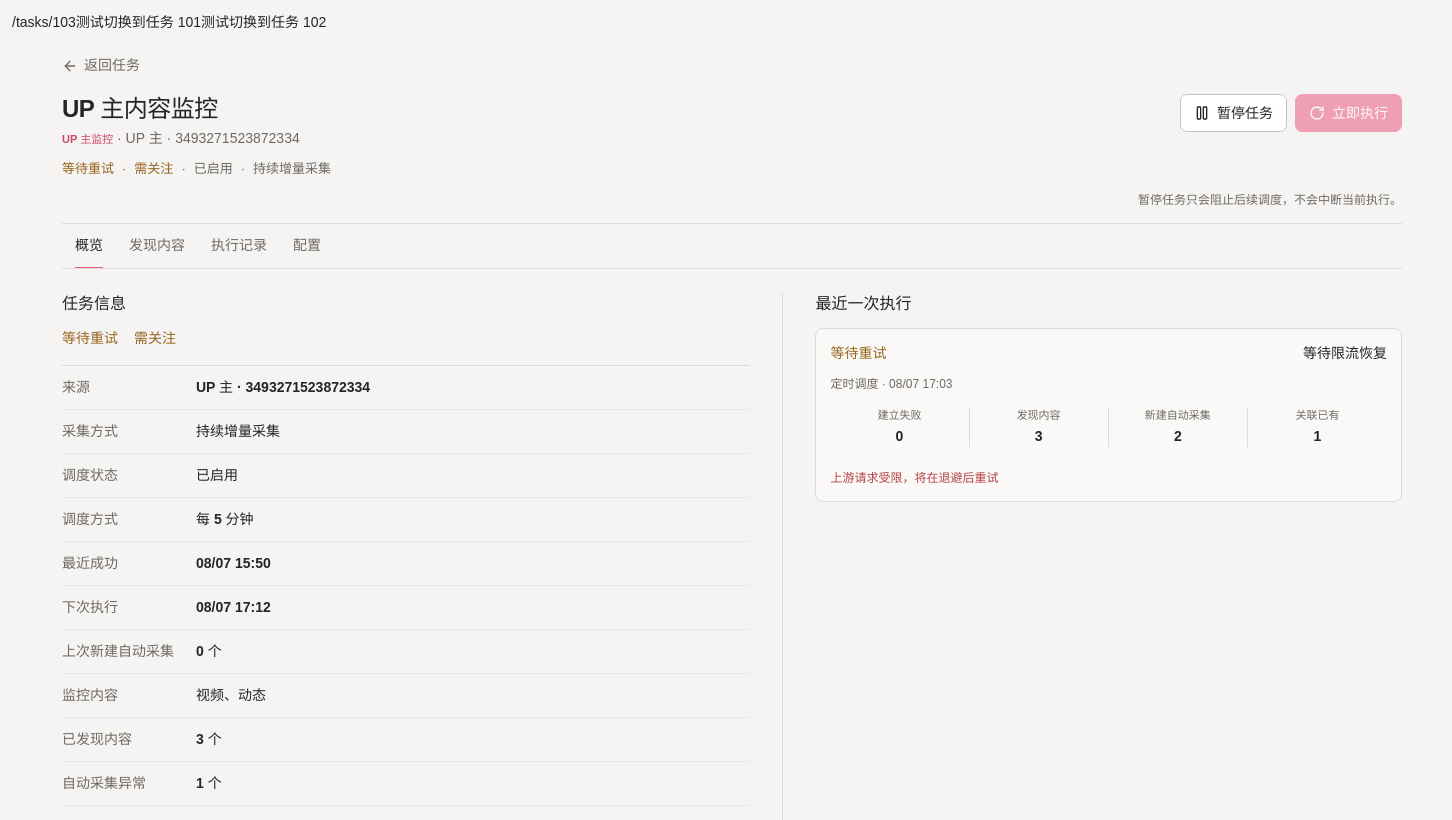
Test case: TaskDetailPage › UP 主监控使用发现指标，并可筛选发现内容后进入规范任务地址
The width and height of the screenshot is (1452, 820).
Expected: the heading "UP 主内容监控" is shown, [62,95,218,122]
Expected: the text "建立失败" is shown, [878,409,922,421]
Click the link "发现内容". click: (157, 245)
box: [129,237,185,253]
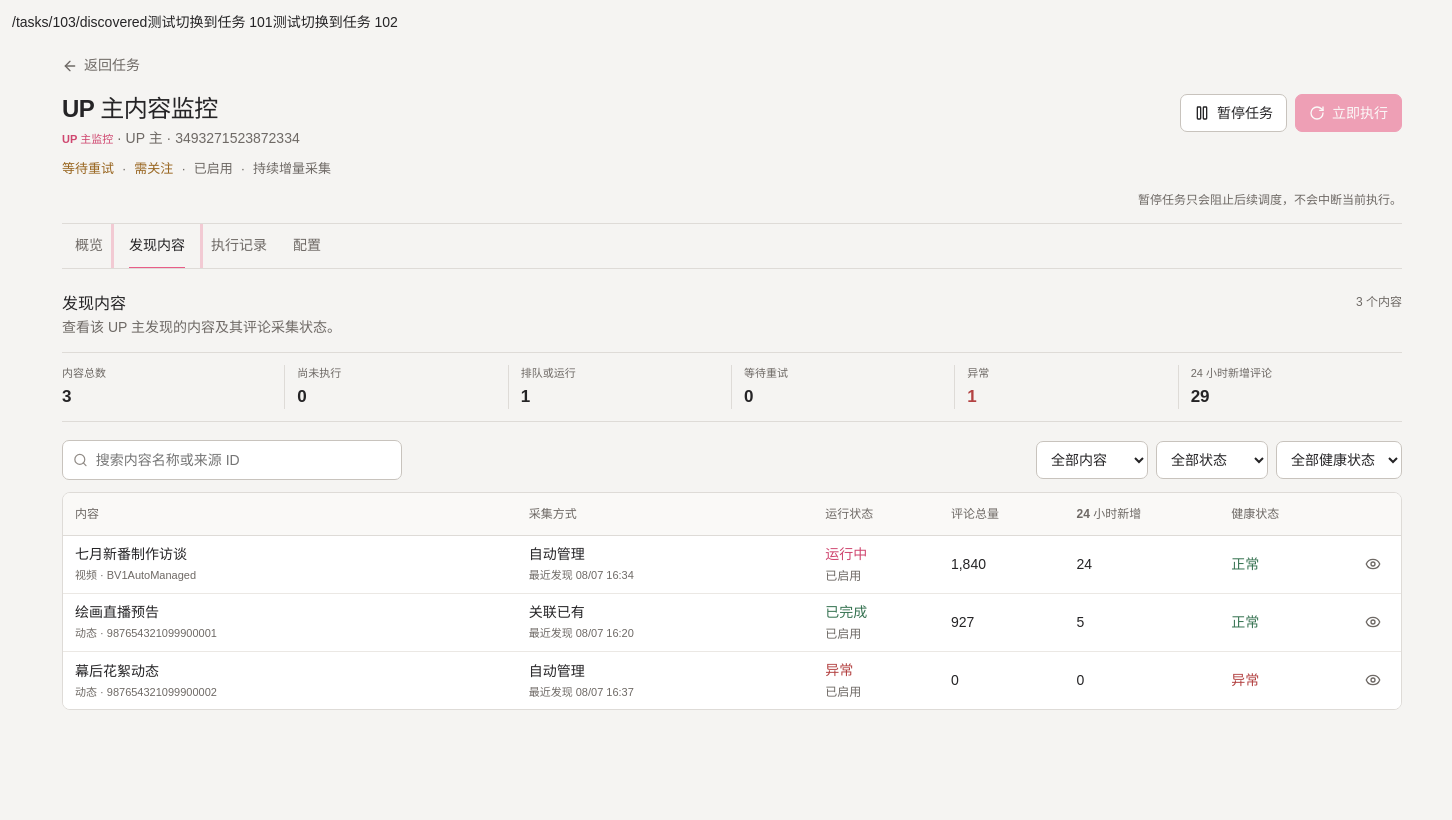
Expected: the text with test id "location" reads "/tasks/103/discovered", [12,14,147,30]
Expected: the text "查看该 UP 主发现的内容及其评论采集状态。" is shown, [62,317,341,338]
Expected: the button named "查看 七月新番制作访谈" is shown, [1357,548,1389,580]
Select "异常" in the 3rd dropdown named "健康状态". click: (1339, 460)
box: [1276,441,1402,479]
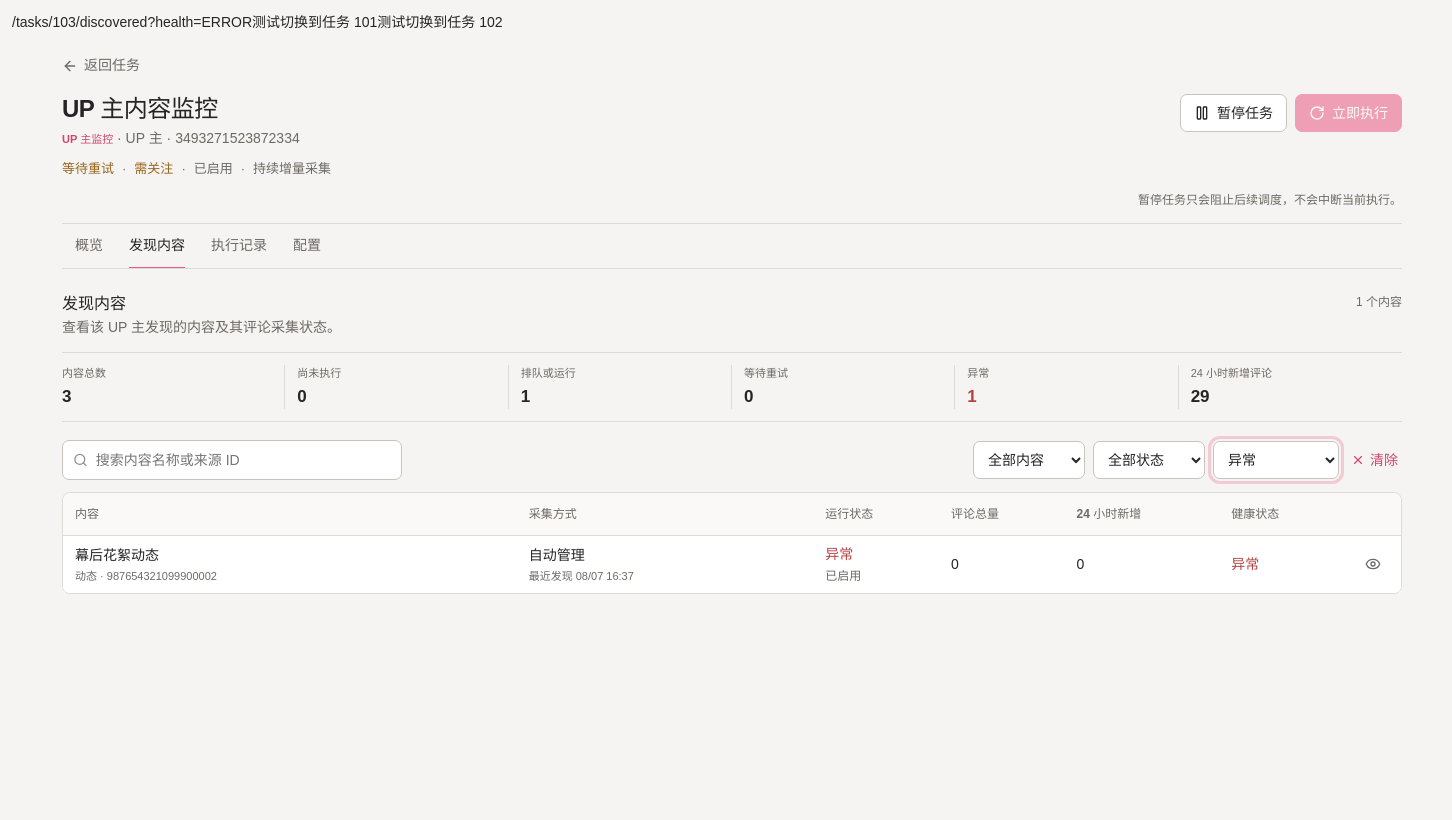
Expected: the text with test id "location" reads "/tasks/103/discovered?health=ERROR", [12,14,252,30]
Click the button named "查看 幕后花絮动态". click: (1373, 564)
box: [1357,548,1389,580]
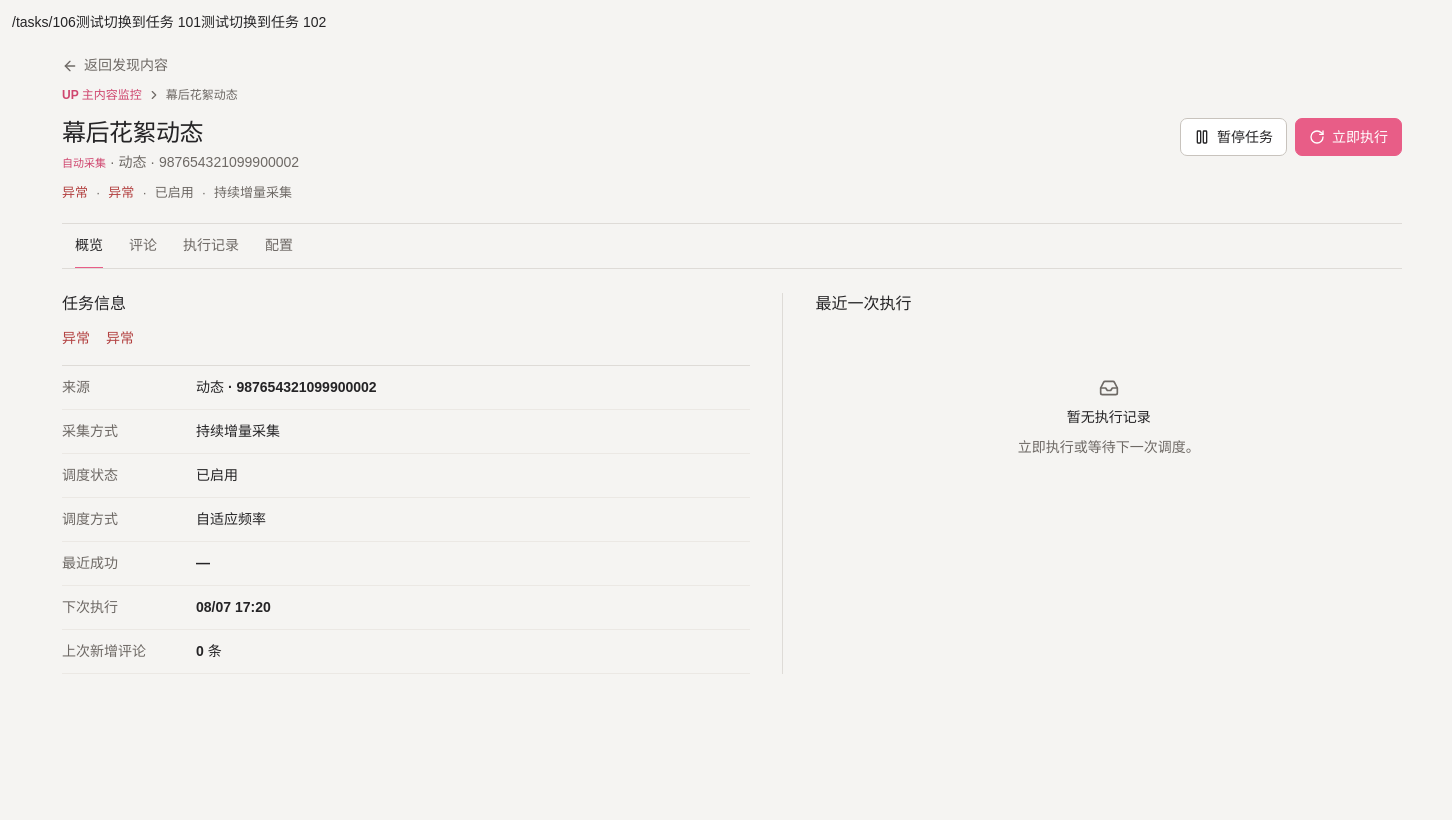
Expected: the heading "幕后花絮动态" is shown, [62,119,203,146]
Expected: the text with test id "location" reads "/tasks/106", [12,14,76,30]
